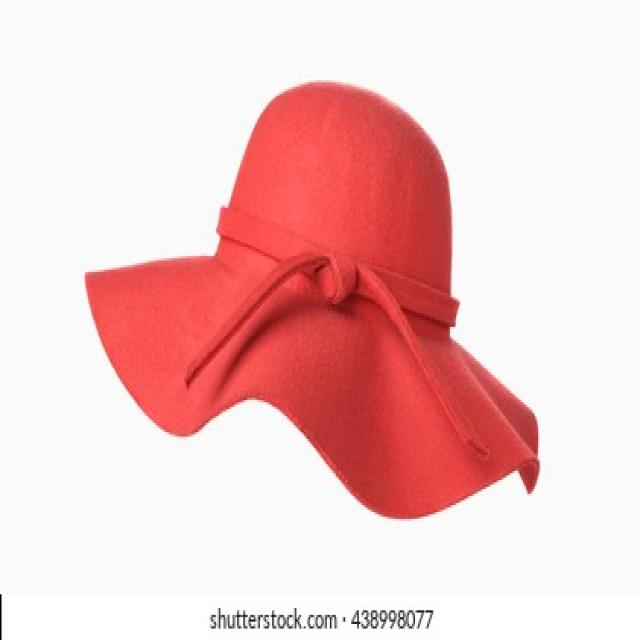hat: (76, 71, 546, 523)
